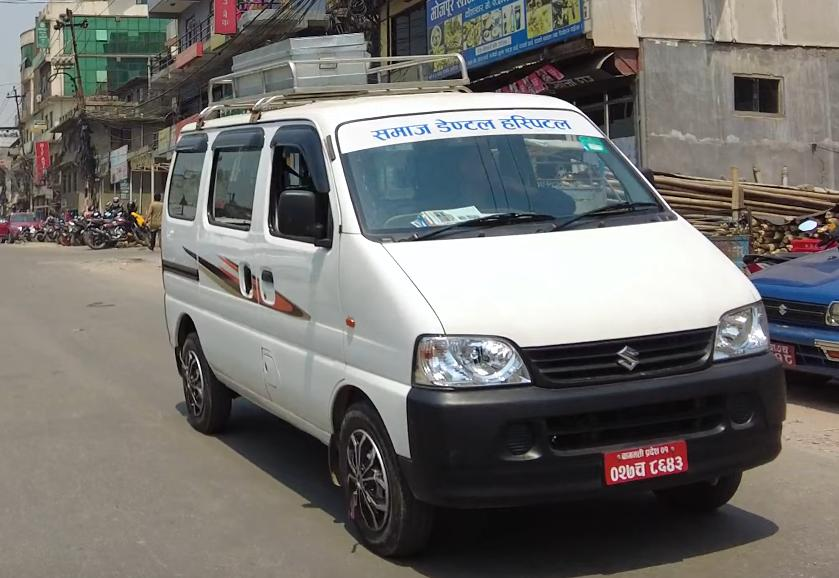van: (148, 46, 797, 559)
